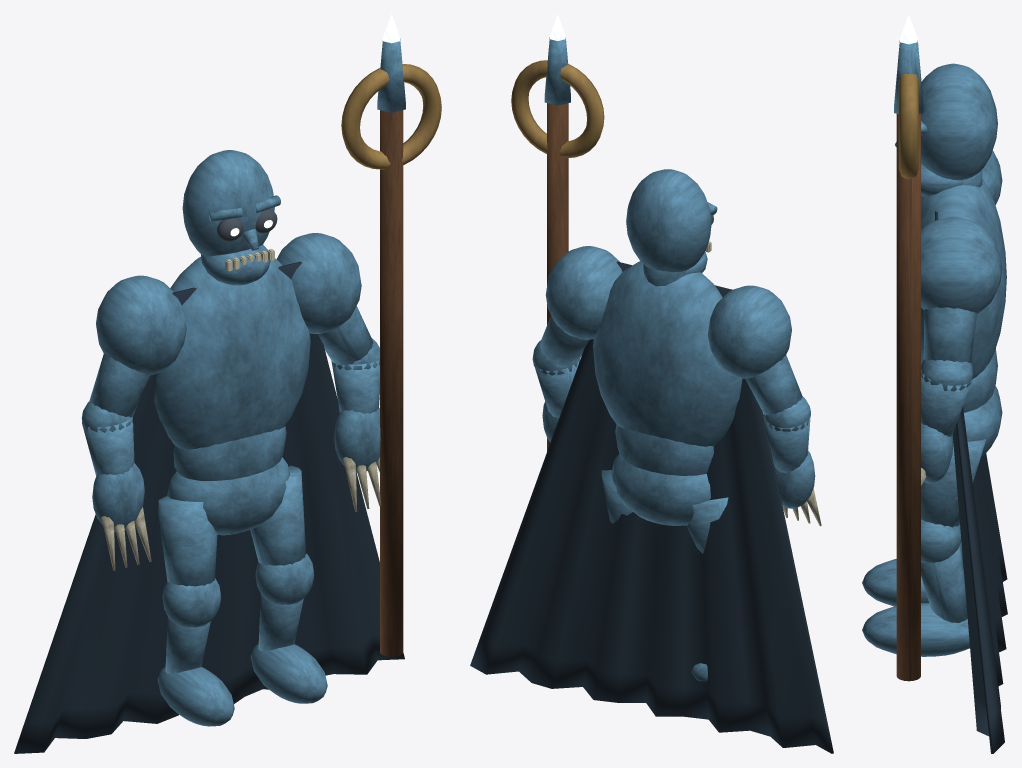
The model's file is enemy_blizzard_spirit.glb.
3 views of the same model, side by side, from view 1: azimuth 30°, elevation 25°; view 2: azimuth 150°, elevation 25°; view 3: azimuth 270°, elevation 25° (orthographic). The views are drawn at different scales.
Parts seen in each view (by area): view 1: Woven_midnight_wool, Blue_glacial_ice, Blue_glacial_ice.002, Old_oak, Blue_glacial_ice.004, Blue_glacial_ice.001, Blue_glacial_ice.003, Blue_glacial_ice.005, Antique_brass, Blue_glacial_ice.006, Aged_bone, Aged_bone.001 (+1 smaller); view 2: Woven_midnight_wool, Blue_glacial_ice, Blue_glacial_ice.002, Blue_glacial_ice.004, Blue_glacial_ice.005, Antique_brass, Old_oak, Blue_glacial_ice.001, Blue_glacial_ice.006, Blue_glacial_ice.003; view 3: Blue_glacial_ice.004, Old_oak, Woven_midnight_wool, Blue_glacial_ice.003, Blue_glacial_ice.005, Blue_glacial_ice, Antique_brass, Blue_glacial_ice.001, Blue_glacial_ice.006, Blue_glacial_ice.002, Frost_core.001.
Boxes of the visible parts, left/top/right/bottom form: Woven_midnight_wool: left=14, top=261, right=404, bottom=753; Blue_glacial_ice: left=154, top=257, right=310, bottom=535; Blue_glacial_ice.002: left=81, top=275, right=186, bottom=531; Old_oak: left=380, top=110, right=403, bottom=656; Blue_glacial_ice.004: left=277, top=233, right=380, bottom=472; Blue_glacial_ice.001: left=157, top=496, right=234, bottom=726; Blue_glacial_ice.003: left=250, top=465, right=327, bottom=703; Blue_glacial_ice.005: left=182, top=150, right=280, bottom=285; Antique_brass: left=341, top=64, right=441, bottom=169; Blue_glacial_ice.006: left=377, top=38, right=405, bottom=112; Aged_bone: left=101, top=507, right=151, bottom=570; Aged_bone.001: left=343, top=457, right=381, bottom=511; Woven_midnight_wool: left=470, top=261, right=833, bottom=753; Blue_glacial_ice: left=593, top=261, right=742, bottom=525; Blue_glacial_ice.002: left=707, top=285, right=815, bottom=508; Blue_glacial_ice.004: left=532, top=246, right=622, bottom=442; Blue_glacial_ice.005: left=626, top=169, right=717, bottom=286; Antique_brass: left=511, top=60, right=604, bottom=157; Old_oak: left=547, top=103, right=568, bottom=451; Blue_glacial_ice.001: left=687, top=497, right=728, bottom=681; Blue_glacial_ice.006: left=544, top=37, right=570, bottom=105; Blue_glacial_ice.003: left=601, top=470, right=632, bottom=523; Blue_glacial_ice.004: left=921, top=216, right=1002, bottom=483; Old_oak: left=896, top=114, right=920, bottom=681; Woven_midnight_wool: left=935, top=211, right=1007, bottom=753; Blue_glacial_ice.003: left=862, top=439, right=985, bottom=656; Blue_glacial_ice.005: left=895, top=63, right=997, bottom=196; Blue_glacial_ice: left=921, top=179, right=1006, bottom=456; Antique_brass: left=898, top=74, right=918, bottom=179; Blue_glacial_ice.001: left=862, top=541, right=963, bottom=606; Blue_glacial_ice.006: left=894, top=40, right=923, bottom=113; Blue_glacial_ice.002: left=982, top=150, right=1002, bottom=204; Frost_core.001: left=900, top=14, right=917, bottom=44.
Bounding box in the file's own units: 2.5 × 4.19 × 0.7778.
7 materials, 5 textured.
